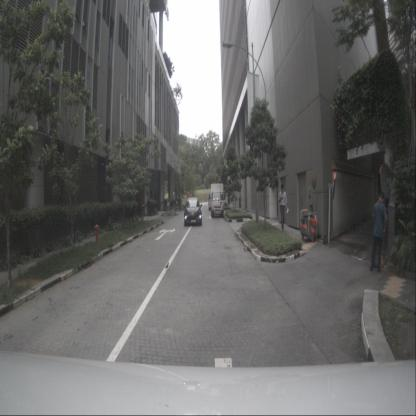cone: (310, 218, 318, 242)
